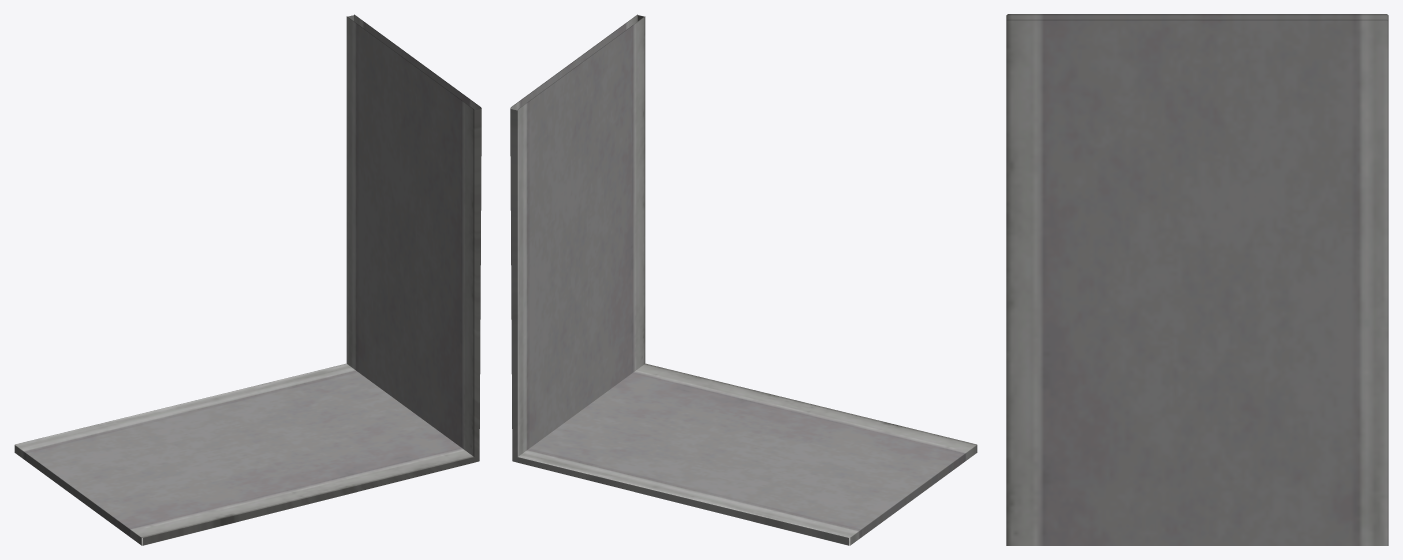
The model's file is SM_EC_House_Wall_9x3_Bend_6.fbx.
3 renders of one model, left to right at view 1: azimuth 30°, elevation 25°; view 2: azimuth 150°, elevation 25°; view 3: azimuth 270°, elevation 25°, orthographic. The views are drawn at different scales.
Parts seen in each view (by area): view 1: SM_EC_House_Wall_9x3_Bend_6; view 2: SM_EC_House_Wall_9x3_Bend_6; view 3: SM_EC_House_Wall_9x3_Bend_6.
Part boxes in pixels (bbox=[...]): SM_EC_House_Wall_9x3_Bend_6: bbox=[14, 14, 481, 545]; SM_EC_House_Wall_9x3_Bend_6: bbox=[510, 14, 977, 545]; SM_EC_House_Wall_9x3_Bend_6: bbox=[1006, 14, 1388, 545].
Size of the model in its own units: 4.6 by 3 by 4.6.
